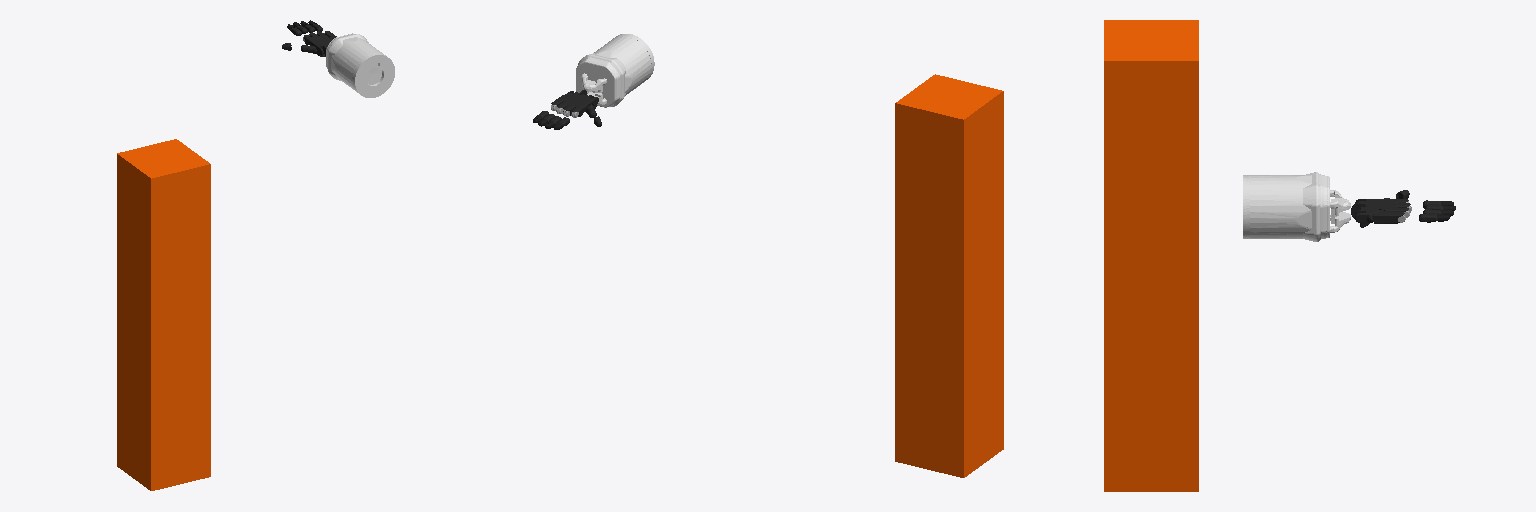
--- Render facts (derived) ---
Views: 3 orthographic renders of the robot side by side, from view 1: azimuth 30°, elevation 25°; view 2: azimuth 150°, elevation 25°; view 3: azimuth 270°, elevation 25°.
Robot: shadow_hand_on_ur5 — 45 links, 44 joints (30 revolute, 14 fixed); root link world; default pose: every joint at zero.
Visible links, largest first — view 1: arm_base, rh_forearm; view 2: arm_base, rh_forearm, rh_palm; view 3: arm_base, rh_forearm, rh_palm.
Link boxes in pixels (left/top/right/bottom): arm_base: left=117, top=139, right=210, bottom=490; rh_forearm: left=326, top=33, right=394, bottom=97; arm_base: left=895, top=74, right=1003, bottom=477; rh_forearm: left=576, top=34, right=654, bottom=107; rh_palm: left=557, top=90, right=598, bottom=116; arm_base: left=1104, top=20, right=1198, bottom=491; rh_forearm: left=1243, top=172, right=1350, bottom=241; rh_palm: left=1351, top=199, right=1410, bottom=227.
Bounding box of the posed robot: 0.9847 × 0.7395 × 1.06 m (x, y, z).
Meshes: 18 distinct files referenced, 17 mesh visuals loaded (8 Collada DAE); not drawn: 13 (reference not matched to a file when rendering).

robot.urdf — shadow_hand_on_ur5:
<?xml version="1.0" ?>
<!-- =================================================================================== -->
<!-- |    This document was autogenerated by xacro from shadow_hand_on_ur5.urdf.xacro  | -->
<!-- |    EDITING THIS FILE BY HAND IS NOT RECOMMENDED                                 | -->
<!-- =================================================================================== -->
<robot name="shadow_hand_on_ur5" xmlns:controller="http://playerstage.sourceforge.net/gazebo/xmlschema/#controller" xmlns:interface="http://playerstage.sourceforge.net/gazebo/xmlschema/#interface" xmlns:sensor="http://playerstage.sourceforge.net/gazebo/xmlschema/#sensor">
  <!-- arm base, orange block/mount for ur5 or ur10 arm -->
  <!-- ################################################################### -->
  <!-- "arm base" : make box to elevate the robot arm -->
  <!-- fix arm base, so that it does not fall -->
  <link name="world"/>
  <joint name="world_to_robot" type="fixed">
    <parent link="world"/>
    <child link="arm_base"/>
    <origin rpy="0 0 0" xyz="0 0 0"/>
  </joint>
  <link name="arm_base">
    <visual>
      <origin rpy="0 0 0" xyz="0 0 0.5"/>
      <geometry>
        <box size="0.2 0.2 1.0"/>
      </geometry>
      <material name="orange">
        <!-- rviz will read this color -->
        <color rgba="1.0 0.4235294117647059 0.0392156862745098 1.0"/>
      </material>
    </visual>
    <collision>
      <origin rpy="0 0 0" xyz="0 0 0.5"/>
      <geometry>
        <box size="0.2 0.2 1.0"/>
      </geometry>
    </collision>
    <inertial>
      <origin rpy="0 0 0" xyz="0 0 0"/>
      <mass value="8.2573504e-01"/>
      <inertia ixx="2.2124416e-03" ixy="-1.2294101e-05" ixz="3.4938785e-05" iyy="2.1193702e-03" iyz="-5.0120904e-06" izz="2.0064271e-03"/>
    </inertial>
  </link>
  <gazebo reference="arm_base">
    <material>Gazebo/Orange</material>
    <!-- gazebo will read this color -->
  </gazebo>
  <!--ur5 without ros control-->
  <!-- ################################################################### -->
  <!-- ur5 arm -->
  <!--
    Base UR robot series xacro macro.

    NOTE: this is NOT a URDF. It cannot directly be loaded by consumers
    expecting a flattened '.urdf' file. See the top-level '.xacro' for that
    (but note: that .xacro must still be processed by the xacro command).

    For use in '.launch' files: use one of the 'load_urX.launch' convenience
    launch files.

    This file models the base kinematic chain of a UR robot, which then gets
    parameterised by various configuration files to convert it into a UR3(e),
    UR5(e), UR10(e) or UR16e.

    NOTE: the default kinematic parameters (ie: link lengths, frame locations,
    offets, etc) do not correspond to any particular robot. They are defaults
    only. There WILL be non-zero offsets between the Forward Kinematics results
    in TF (ie: robot_state_publisher) and the values reported by the Teach
    Pendant.

    For accurate (and robot-specific) transforms, the 'kinematics_parameters_file'
    parameter MUST point to a .yaml file containing the appropriate values for
    the targetted robot.

    If using the UniversalRobots/Universal_Robots_ROS_Driver, follow the steps
    described in the readme of that repository to extract the kinematic
    calibration from the controller and generate the required .yaml file.

    Main author of the migration to yaml configs: Ludovic Delval.

    Contributors to previous versions (in no particular order):

     - Felix Messmer
     - Kelsey Hawkins
     - Wim Meeussen
     - Shaun Edwards
     - Nadia Hammoudeh Garcia
     - Dave Hershberger
     - G. vd. Hoorn
     - Philip Long
     - Dave Coleman
     - Miguel Prada
     - Mathias Luedtke
     - Marcel Schnirring
     - Felix von Drigalski
     - Felix Exner
     - Jimmy Da Silva
     - Ajit Krisshna N L
     - Muhammad Asif Rana
  -->
  <!--
    NOTE: the macro defined in this file is NOT part of the public API of this
          package. Users CANNOT rely on this file being available, or stored in
          this location. Nor can they rely on the existence of the macro.
  -->
  <transmission name="ur5_shoulder_pan_trans">
    <type>transmission_interface/SimpleTransmission</type>
    <joint name="ur5_shoulder_pan_joint">
      <hardwareInterface>hardware_interface/PositionJointInterface</hardwareInterface>
    </joint>
    <actuator name="ur5_shoulder_pan_motor">
      <mechanicalReduction>1</mechanicalReduction>
    </actuator>
  </transmission>
  <transmission name="ur5_shoulder_lift_trans">
    <type>transmission_interface/SimpleTransmission</type>
    <joint name="ur5_shoulder_lift_joint">
      <hardwareInterface>hardware_interface/PositionJointInterface</hardwareInterface>
    </joint>
    <actuator name="ur5_shoulder_lift_motor">
      <mechanicalReduction>1</mechanicalReduction>
    </actuator>
  </transmission>
  <transmission name="ur5_elbow_trans">
    <type>transmission_interface/SimpleTransmission</type>
    <joint name="ur5_elbow_joint">
      <hardwareInterface>hardware_interface/PositionJointInterface</hardwareInterface>
    </joint>
    <actuator name="ur5_elbow_motor">
      <mechanicalReduction>1</mechanicalReduction>
    </actuator>
  </transmission>
  <transmission name="ur5_wrist_1_trans">
    <type>transmission_interface/SimpleTransmission</type>
    <joint name="ur5_wrist_1_joint">
      <hardwareInterface>hardware_interface/PositionJointInterface</hardwareInterface>
    </joint>
    <actuator name="ur5_wrist_1_motor">
      <mechanicalReduction>1</mechanicalReduction>
    </actuator>
  </transmission>
  <transmission name="ur5_wrist_2_trans">
    <type>transmission_interface/SimpleTransmission</type>
    <joint name="ur5_wrist_2_joint">
      <hardwareInterface>hardware_interface/PositionJointInterface</hardwareInterface>
    </joint>
    <actuator name="ur5_wrist_2_motor">
      <mechanicalReduction>1</mechanicalReduction>
    </actuator>
  </transmission>
  <transmission name="ur5_wrist_3_trans">
    <type>transmission_interface/SimpleTransmission</type>
    <joint name="ur5_wrist_3_joint">
      <hardwareInterface>hardware_interface/PositionJointInterface</hardwareInterface>
    </joint>
    <actuator name="ur5_wrist_3_motor">
      <mechanicalReduction>1</mechanicalReduction>
    </actuator>
  </transmission>
  <!-- links: main serial chain -->
  <link name="ur5_base_link">
    <inertial>
      <mass value="0.0"/>
      <origin rpy="0 0 0" xyz="0 0 0"/>
      <inertia ixx="0.0" ixy="0.0" ixz="0.0" iyy="0.0" iyz="0.0" izz="0.0"/>
    </inertial>
  </link>
  <link name="ur5_base_link_inertia">
    <visual>
      <origin rpy="0 0 3.141592653589793" xyz="0 0 0"/>
      <geometry>
        <mesh filename="../meshes/ur5/visual/base.dae"/>
      </geometry>
      <material name="LightGrey">
        <color rgba="0.7 0.7 0.7 1.0"/>
      </material>
    </visual>
    <collision>
      <origin rpy="0 0 3.141592653589793" xyz="0 0 0"/>
      <geometry>
        <mesh filename="../meshes/ur5/collision/base.stl"/>
      </geometry>
    </collision>
    <inertial>
      <mass value="4.0"/>
      <origin rpy="0 0 0" xyz="0 0 0"/>
      <inertia ixx="0.00443333156" ixy="0.0" ixz="0.0" iyy="0.00443333156" iyz="0.0" izz="0.0072"/>
    </inertial>
  </link>
  <link name="ur5_shoulder_link">
    <visual>
      <origin rpy="0 0 3.141592653589793" xyz="0 0 0"/>
      <geometry>
        <mesh filename="../meshes/ur5/visual/shoulder.dae"/>
      </geometry>
      <material name="LightGrey">
        <color rgba="0.7 0.7 0.7 1.0"/>
      </material>
    </visual>
    <collision>
      <origin rpy="0 0 3.141592653589793" xyz="0 0 0"/>
      <geometry>
        <mesh filename="../meshes/ur5/collision/shoulder.stl"/>
      </geometry>
    </collision>
    <inertial>
      <mass value="3.7"/>
      <origin rpy="0 0 0" xyz="0 0 0"/>
      <inertia ixx="0.014972352344389999" ixy="0.0" ixz="0.0" iyy="0.014972352344389999" iyz="0.0" izz="0.01040625"/>
    </inertial>
  </link>
  <link name="ur5_upper_arm_link">
    <visual>
      <origin rpy="1.5707963267948966 0 -1.5707963267948966" xyz="0 0 0.13585"/>
      <geometry>
        <mesh filename="../meshes/ur5/visual/upperarm.dae"/>
      </geometry>
      <material name="LightGrey">
        <color rgba="0.7 0.7 0.7 1.0"/>
      </material>
    </visual>
    <collision>
      <origin rpy="1.5707963267948966 0 -1.5707963267948966" xyz="0 0 0.13585"/>
      <geometry>
        <mesh filename="../meshes/ur5/collision/upperarm.stl"/>
      </geometry>
    </collision>
    <inertial>
      <mass value="8.393"/>
      <origin rpy="0 1.5707963267948966 0" xyz="-0.2125 0.0 0.136"/>
      <inertia ixx="0.1338857818623325" ixy="0.0" ixz="0.0" iyy="0.1338857818623325" iyz="0.0" izz="0.0151074"/>
    </inertial>
  </link>
  <link name="ur5_forearm_link">
    <visual>
      <origin rpy="1.5707963267948966 0 -1.5707963267948966" xyz="0 0 0.0165"/>
      <geometry>
        <mesh filename="../meshes/ur5/visual/forearm.dae"/>
      </geometry>
      <material name="LightGrey">
        <color rgba="0.7 0.7 0.7 1.0"/>
      </material>
    </visual>
    <collision>
      <origin rpy="1.5707963267948966 0 -1.5707963267948966" xyz="0 0 0.0165"/>
      <geometry>
        <mesh filename="../meshes/ur5/collision/forearm.stl"/>
      </geometry>
    </collision>
    <inertial>
      <mass value="2.275"/>
      <origin rpy="0 1.5707963267948966 0" xyz="-0.196125 0.0 0.0165"/>
      <inertia ixx="0.03121679102890359" ixy="0.0" ixz="0.0" iyy="0.03121679102890359" iyz="0.0" izz="0.004095"/>
    </inertial>
  </link>
  <link name="ur5_wrist_1_link">
    <visual>
      <!-- TODO: Move this to a parameter -->
      <origin rpy="1.5707963267948966 0 0" xyz="0 0 -0.093"/>
      <geometry>
        <mesh filename="../meshes/ur5/visual/wrist1.dae"/>
      </geometry>
      <material name="LightGrey">
        <color rgba="0.7 0.7 0.7 1.0"/>
      </material>
    </visual>
    <collision>
      <origin rpy="1.5707963267948966 0 0" xyz="0 0 -0.093"/>
      <geometry>
        <mesh filename="../meshes/ur5/collision/wrist1.stl"/>
      </geometry>
    </collision>
    <inertial>
      <mass value="1.219"/>
      <origin rpy="0 0 0" xyz="0 0 0"/>
      <inertia ixx="0.0020138887777775" ixy="0.0" ixz="0.0" iyy="0.0020138887777775" iyz="0.0" izz="0.0021942"/>
    </inertial>
  </link>
  <link name="ur5_wrist_2_link">
    <visual>
      <origin rpy="0 0 0" xyz="0 0 -0.095"/>
      <geometry>
        <mesh filename="../meshes/ur5/visual/wrist2.dae"/>
      </geometry>
      <material name="LightGrey">
        <color rgba="0.7 0.7 0.7 1.0"/>
      </material>
    </visual>
    <collision>
      <origin rpy="0 0 0" xyz="0 0 -0.095"/>
      <geometry>
        <mesh filename="../meshes/ur5/collision/wrist2.stl"/>
      </geometry>
    </collision>
    <inertial>
      <mass value="1.219"/>
      <origin rpy="0 0 0" xyz="0 0 0"/>
      <inertia ixx="0.0018310388509175" ixy="0.0" ixz="0.0" iyy="0.0018310388509175" iyz="0.0" izz="0.0021942"/>
    </inertial>
  </link>
  <link name="ur5_wrist_3_link">
    <visual>
      <origin rpy="1.5707963267948966 0 0" xyz="0 0 -0.0818"/>
      <geometry>
        <mesh filename="../meshes/ur5/visual/wrist3.dae"/>
      </geometry>
      <material name="LightGrey">
        <color rgba="0.7 0.7 0.7 1.0"/>
      </material>
    </visual>
    <collision>
      <origin rpy="1.5707963267948966 0 0" xyz="0 0 -0.0818"/>
      <geometry>
        <mesh filename="../meshes/ur5/collision/wrist3.stl"/>
      </geometry>
    </collision>
    <inertial>
      <mass value="0.1879"/>
      <origin rpy="0 0 0" xyz="0.0 0.0 -0.01525"/>
      <inertia ixx="8.062472608343e-05" ixy="0.0" ixz="0.0" iyy="8.062472608343e-05" iyz="0.0" izz="0.0001321171875"/>
    </inertial>
  </link>
  <!-- joints: main serial chain -->
  <joint name="ur5_base_link-base_link_inertia" type="fixed">
    <parent link="ur5_base_link"/>
    <child link="ur5_base_link_inertia"/>
    <!-- 'base_link' is REP-103 aligned (so X+ forward), while the internal
           frames of the robot/controller have X+ pointing backwards.
           Use the joint between 'base_link' and 'base_link_inertia' (a dummy
           link/frame) to introduce the necessary rotation over Z (of pi rad).
      -->
    <origin rpy="0 0 3.141592653589793" xyz="0 0 0"/>
  </joint>
  <joint name="ur5_shoulder_pan_joint" type="revolute">
    <parent link="ur5_base_link_inertia"/>
    <child link="ur5_shoulder_link"/>
    <origin rpy="0 0 0" xyz="0 0 0.089159"/>
    <axis xyz="0 0 1"/>
    <limit effort="150.0" lower="-6.283185307179586" upper="6.283185307179586" velocity="3.141592653589793"/>
    <dynamics damping="0" friction="0"/>
  </joint>
  <joint name="ur5_shoulder_lift_joint" type="revolute">
    <parent link="ur5_shoulder_link"/>
    <child link="ur5_upper_arm_link"/>
    <origin rpy="1.570796327 0 0" xyz="0 0 0"/>
    <axis xyz="0 0 1"/>
    <limit effort="150.0" lower="-6.283185307179586" upper="6.283185307179586" velocity="3.141592653589793"/>
    <dynamics damping="0" friction="0"/>
  </joint>
  <joint name="ur5_elbow_joint" type="revolute">
    <parent link="ur5_upper_arm_link"/>
    <child link="ur5_forearm_link"/>
    <origin rpy="0 0 0" xyz="-0.425 0 0"/>
    <axis xyz="0 0 1"/>
    <limit effort="150.0" lower="-3.141592653589793" upper="3.141592653589793" velocity="3.141592653589793"/>
    <dynamics damping="0" friction="0"/>
  </joint>
  <joint name="ur5_wrist_1_joint" type="revolute">
    <parent link="ur5_forearm_link"/>
    <child link="ur5_wrist_1_link"/>
    <origin rpy="0 0 0" xyz="-0.39225 0 0.10915"/>
    <axis xyz="0 0 1"/>
    <limit effort="28.0" lower="-6.283185307179586" upper="6.283185307179586" velocity="3.141592653589793"/>
    <dynamics damping="0" friction="0"/>
  </joint>
  <joint name="ur5_wrist_2_joint" type="revolute">
    <parent link="ur5_wrist_1_link"/>
    <child link="ur5_wrist_2_link"/>
    <origin rpy="1.570796327 0 0" xyz="0 -0.09465 -1.941303950897609e-11"/>
    <axis xyz="0 0 1"/>
    <limit effort="28.0" lower="-6.283185307179586" upper="6.283185307179586" velocity="3.141592653589793"/>
    <dynamics damping="0" friction="0"/>
  </joint>
  <joint name="ur5_wrist_3_joint" type="revolute">
    <parent link="ur5_wrist_2_link"/>
    <child link="ur5_wrist_3_link"/>
    <origin rpy="1.570796326589793 3.141592653589793 3.141592653589793" xyz="0 0.0823 -1.688001216681175e-11"/>
    <axis xyz="0 0 1"/>
    <limit effort="28.0" lower="-6.283185307179586" upper="6.283185307179586" velocity="3.141592653589793"/>
    <dynamics damping="0" friction="0"/>
  </joint>
  <!-- ROS-Industrial 'base' frame: base_link to UR 'Base' Coordinates transform -->
  <link name="ur5_base">
    <inertial>
      <mass value="0.0"/>
      <origin rpy="0 0 0" xyz="0 0 0"/>
      <inertia ixx="0.0" ixy="0.0" ixz="0.0" iyy="0.0" iyz="0.0" izz="0.0"/>
    </inertial>
  </link>
  <joint name="ur5_base_link-base_fixed_joint" type="fixed">
    <!-- Note the rotation over Z of pi radians: as base_link is REP-103
           aligned (ie: has X+ forward, Y+ left and Z+ up), this is needed
           to correctly align 'base' with the 'Base' coordinate system of
           the UR controller.
      -->
    <origin rpy="0 0 3.141592653589793" xyz="0 0 0"/>
    <parent link="ur5_base_link"/>
    <child link="ur5_base"/>
  </joint>
  <!-- ROS-Industrial 'flange' frame: attachment point for EEF models -->
  <link name="ur5_flange">
    <inertial>
      <mass value="0.0"/>
      <origin rpy="0 0 0" xyz="0 0 0"/>
      <inertia ixx="0.0" ixy="0.0" ixz="0.0" iyy="0.0" iyz="0.0" izz="0.0"/>
    </inertial>
  </link>
  <joint name="ur5_wrist_3-flange" type="fixed">
    <parent link="ur5_wrist_3_link"/>
    <child link="ur5_flange"/>
    <origin rpy="0 -1.5707963267948966 -1.5707963267948966" xyz="0 0 0"/>
  </joint>
  <!-- ROS-Industrial 'tool0' frame: all-zeros tool frame -->
  <link name="ur5_tool0">
    <inertial>
      <mass value="0.0"/>
      <origin rpy="0 0 0" xyz="0 0 0"/>
      <inertia ixx="0.0" ixy="0.0" ixz="0.0" iyy="0.0" iyz="0.0" izz="0.0"/>
    </inertial>
  </link>
  <joint name="ur5_flange-tool0" type="fixed">
    <!-- default toolframe: X+ left, Y+ up, Z+ front -->
    <origin rpy="1.5707963267948966 0 1.5707963267948966" xyz="0 0 0"/>
    <parent link="ur5_flange"/>
    <child link="ur5_tool0"/>
  </joint>
  <!-- ################################################################### -->
  <!-- attach "arm" and "arm base" -->
  <joint name="arm_base_to_arm" type="fixed">
    <parent link="arm_base"/>
    <child link="ur5_base_link"/>
    <origin rpy="0 0 0" xyz="0 0 1.0"/>
  </joint>
  <material name="Blue">
    <color rgba="0.0 0.0 0.8 1.0"/>
  </material>
  <material name="Green">
    <color rgba="0.0 0.8 0.0 1.0"/>
  </material>
  <material name="BiotacGreen">
    <color rgba="0.31 0.85 0.42 1.0"/>
  </material>
  <material name="Grey">
    <color rgba="0.2 0.2 0.2 1.0"/>
  </material>
  <material name="LightGrey">
    <color rgba="0.6 0.6 0.6 1.0"/>
  </material>
  <material name="Red">
    <color rgba="0.8 0.0 0.0 1.0"/>
  </material>
  <material name="White">
    <color rgba="1.0 1.0 1.0 1.0"/>
  </material>
  <gazebo>
    <plugin filename="libgazebo_ros_control.so" name="gazebo_ros_control">
      <robotSimType>sr_gazebo_sim/SrGazeboHWSim</robotSimType>
    </plugin>
  </gazebo>
  <link name="rh_forearm">
    <inertial>
      <origin rpy="0 0 0" xyz="0 0 0.09"/>
      <mass value="3.0"/>
      <inertia ixx="0.0138" ixy="0.0" ixz="0.0" iyy="0.0138" iyz="0.0" izz="0.00744"/>
    </inertial>
    <visual>
      <origin rpy="0 0 0" xyz="0 0 0.0"/>
      <geometry name="rh_forearm_visual">
        <mesh filename="../meshes/components/forearm/forearm_E3M5.dae" scale="0.001 0.001 0.001"/>
      </geometry>
      <material name="light_grey">
        <color rgba="0.90000 0.90000 0.90000 1.0"/>
      </material>
    </visual>
    <collision>
      <origin rpy="0 0 0" xyz="0 0 0.0"/>
      <geometry name="rh_forearm_collision">
        <mesh filename="../meshes/components/forearm/forearm_collision_E3M5.dae" scale="0.001 0.001 0.001"/>
      </geometry>
    </collision>
    <!-- wrist mount -->
    <collision>
      <origin rpy="0 0.78 0" xyz="0 -0.01 0.181"/>
      <geometry>
        <box size="0.07 0.07 0.07"/>
      </geometry>
    </collision>
    <!-- TODO: Make a decision on whether to add the connector or not -->
    <!--visual>
        <origin rpy="0 -1.57 -1.57" xyz="0.0 0.067 0.0045"/>
        <geometry name="${prefix}cable_extr_visualisation">
          <mesh filename="../meshes/components/cable_connector/cable_connector_base_${hand_version}.dae" scale="0.001 0.001 0.001" />
        </geometry>
      </visual-->
  </link>
  <gazebo reference="rh_forearm">
    <selfCollide>false</selfCollide>
  </gazebo>
  <link name="rh_wrist">
    <inertial>
      <origin rpy="0 0 0" xyz="0 0 0.029"/>
      <mass value="0.1"/>
      <inertia ixx="0.000035" ixy="0.0" ixz="0.0" iyy="0.000064" iyz="0.0" izz="0.0000438"/>
    </inertial>
    <visual>
      <origin rpy="0 0 0" xyz="0 0 0"/>
      <geometry name="rh_wrist_visual">
        <mesh filename="../meshes/components/wrist/wrist_E3M5.dae" scale="0.001 0.001 0.001"/>
      </geometry>
      <material name="LightGrey"/>
    </visual>
    <collision>
      <origin rpy="1.5708 1.5708 0" xyz="0 0 0"/>
      <geometry name="rh_wrist_collision_geom">
        <cylinder length="0.030" radius="0.0135"/>
      </geometry>
    </collision>
    <collision>
      <origin rpy="0 1.5708 0" xyz="-0.026 0 0.034"/>
      <geometry>
        <cylinder length="0.010" radius="0.011"/>
      </geometry>
    </collision>
    <collision>
      <origin rpy="0 1.5708 0" xyz="0.031 0 0.034"/>
      <geometry>
        <cylinder length="0.010" radius="0.011"/>
      </geometry>
    </collision>
    <collision>
      <origin rpy="0 0.7854 0" xyz="-0.021 0 0.011"/>
      <geometry>
        <box size="0.027 0.018 0.010"/>
      </geometry>
    </collision>
    <collision>
      <origin rpy="0 -0.7854 0" xyz="0.026 0 0.010"/>
      <geometry>
        <box size="0.027 0.018 0.010"/>
      </geometry>
    </collision>
  </link>
  <gazebo reference="rh_wrist">
    <material>Gazebo/White</material>
    <selfCollide>false</selfCollide>
  </gazebo>
  <joint name="rh_WRJ2" type="revolute">
    <parent link="rh_forearm"/>
    <child link="rh_wrist"/>
    <origin rpy="0 0 0" xyz="0 -0.010 0.21301"/>
    <axis xyz="0 1 0"/>
    <limit effort="10" lower="-0.5235987755982988" upper="0.17453292519943295" velocity="2.0"/>
    <dynamics damping="0.1"/>
  </joint>
  <gazebo reference="rh_WRJ2">
    <provideFeedback>1</provideFeedback>
    <implicitSpringDamper>1</implicitSpringDamper>
  </gazebo>
  <transmission name="rh_wrist_transmission">
    <type>sr_mechanism_model/SimpleTransmission</type>
    <actuator name="rh_WRJ2">
      <mechanicalReduction>1</mechanicalReduction>
    </actuator>
    <joint name="rh_WRJ2">
      <hardwareInterface>EffortJointInterface</hardwareInterface>
      <hardwareInterface>PositionJointInterface</hardwareInterface>
    </joint>
  </transmission>
  <link name="rh_palm">
    <inertial>
      <origin rpy="0 0 0" xyz="0 0 0.035"/>
      <mass value="0.3"/>
      <inertia ixx="0.0003581" ixy="0.0" ixz="0.0" iyy="0.0005287" iyz="0.0" izz="0.000191"/>
    </inertial>
    <visual>
      <origin rpy="0 0 0" xyz="0 0 0"/>
      <geometry name="rh_palm_visual">
        <mesh filename="../meshes/components/palm/palm_E3M5.dae" scale="0.001 0.001 0.001"/>
      </geometry>
      <material name="Grey"/>
    </visual>
    <collision>
      <origin rpy="0 0 0" xyz="0.011 0.0085 0.038"/>
      <geometry name="rh_palm_collision_geom">
        <box size="0.062 0.007 0.098"/>
      </geometry>
    </collision>
    <collision>
      <origin rpy="0 0 0" xyz="-0.002 -0.0035 0.038"/>
      <geometry>
        <box size="0.036 0.017 0.098"/>
      </geometry>
    </collision>
    <!-- palm complement below first finger -->
    <collision>
      <origin rpy="0 0 0" xyz="0.029 -0.0035 0.082"/>
      <geometry>
        <box size="0.026 0.017 0.010"/>
      </geometry>
    </collision>
    <collision>
      <origin rpy="0.2 0 0.25" xyz="0.0265 -0.001 0.070"/>
      <geometry>
        <box size="0.026 0.014 0.018"/>
      </geometry>
    </collision>
    <!-- thumb pulp side -->
    <collision>
      <origin rpy="0 0 0" xyz="0.0315 -0.0085 0.001"/>
      <geometry>
        <box size="0.021 0.027 0.024"/>
      </geometry>
    </collision>
    <!-- thumb pulp central -->
    <collision>
      <origin rpy="0 0 -0.48" xyz="0.0125 -0.015 0.009"/>
      <geometry>
        <box size="0.022 0.005 0.040"/>
      </geometry>
    </collision>
    <!-- above middle finger-->
    <collision>
      <origin rpy="0 0 0" xyz="0.011 0 0.089"/>
      <geometry>
        <box size="0.018 0.024 0.004"/>
      </geometry>
    </collision>
    <!-- metacarpal side-->
    <collision>
      <origin rpy="0 0 0" xyz="-0.03 0 0.009"/>
      <geometry>
        <box size="0.020 0.024 0.040"/>
      </geometry>
    </collision>
  </link>
  <joint name="rh_ee_fixed_joint" type="fixed">
    <parent link="rh_palm"/>
    <child link="rh_manipulator"/>
    <origin rpy="0.0 0.0 0.0" xyz="0.0 0.0 0.05"/>
  </joint>
  <link name="rh_manipulator">
    <inertial>
      <mass value="0.0"/>
      <origin rpy="0 0 0" xyz="0 0 0"/>
      <inertia ixx="0.0" ixy="0.0" ixz="0.0" iyy="0.0" iyz="0.0" izz="0.0"/>
    </inertial>
  </link>
  <joint name="rh_WRJ1" type="revolute">
    <parent link="rh_wrist"/>
    <child link="rh_palm"/>
    <origin rpy="0 0 0" xyz="0 0 0.034"/>
    <axis xyz="1 0 0"/>
    <limit effort="30" lower="-0.6981317007977318" upper="0.4886921905584123" velocity="2.0"/>
    <dynamics damping="0.1"/>
  </joint>
  <gazebo reference="rh_WRJ1">
    <provideFeedback>1</provideFeedback>
    <implicitSpringDamper>1</implicitSpringDamper>
  </gazebo>
  <link name="rh_imu">
    <inertial>
      <mass value="0.0"/>
      <origin rpy="0 0 0" xyz="0 0 0"/>
      <inertia ixx="0.0" ixy="0.0" ixz="0.0" iyy="0.0" iyz="0.0" izz="0.0"/>
    </inertial>
  </link>
  <joint name="rh_palm_to_imu" type="fixed">
    <parent link="rh_palm"/>
    <child link="rh_imu"/>
    <origin rpy="-1.5707963 3.141592 0.0" xyz="0.01785 0.00765 0.049125"/>
  </joint>
  <transmission name="rh_palm_transmission">
    <type>sr_mechanism_model/SimpleTransmission</type>
    <actuator name="rh_WRJ1">
      <mechanicalReduction>1</mechanicalReduction>
    </actuator>
    <joint name="rh_WRJ1">
      <hardwareInterface>EffortJointInterface</hardwareInterface>
      <hardwareInterface>PositionJointInterface</hardwareInterface>
    </joint>
  </transmission>
  <gazebo reference="rh_palm">
  </gazebo>
  <link name="rh_ffknuckle">
    <inertial>
      <origin rpy="0 0 0" xyz="0 0 0"/>
      <mass value="0.008"/>
      <inertia ixx="0.00000026" ixy="0.0" ixz="0.0" iyy="0.00000026" iyz="0.0" izz="0.00000032"/>
    </inertial>
    <visual>
      <origin rpy="0 0 0" xyz="0 0 0.0005"/>
      <geometry name="rh_ffknuckle_visual">
        <mesh filename="../meshes/components/f_knuckle/f_knuckle_E3M5.dae" scale="0.001 0.001 0.001"/>
      </geometry>
      <material name="LightGrey"/>
    </visual>
    <collision>
      <origin rpy="0 1.5708 0" xyz="0 0 0"/>
      <geometry name="rh_ffknuckle_collision_geom">
        <cylinder length="0.014" radius="0.007"/>
      </geometry>
    </collision>
  </link>
  <joint name="rh_FFJ4" type="revolute">
    <parent link="rh_palm"/>
    <child link="rh_ffknuckle"/>
    <!--<origin xyz="0.033 0 0.095" rpy="0 0 0" />-->
    <origin rpy="0 0 0" xyz="0.033 0 0.095"/>
    <axis xyz="0 -1 0"/>
    <limit effort="2" lower="-0.3490658503988659" upper="0.3490658503988659" velocity="2.0"/>
    <dynamics damping="0.1"/>
  </joint>
  <gazebo reference="rh_FFJ4">
    <provideFeedback>1</provideFeedback>
    <implicitSpringDamper>1</implicitSpringDamper>
  </gazebo>
  <transmission name="rh_ffknuckle_transmission">
    <type>sr_mechanism_model/SimpleTransmission</type>
    <actuator name="rh_FFJ4">
      <mechanicalReduction>1</mechanicalReduction>
    </actuator>
    <joint name="rh_FFJ4">
      <hardwareInterface>EffortJointInterface</hardwareInterface>
      <hardwareInterface>PositionJointInterface</hardwareInterface>
    </joint>
  </transmission>
  <gazebo reference="rh_ffknuckle">
    <!-- knuckle is not highly exposed, so bumper is not useful -->
    <material>Gazebo/Grey</material>
  </gazebo>
  <link name="rh_ffproximal">
    <inertial>
      <mass value="0.030"/>
      <origin xyz="0 0 0.0225"/>
      <inertia ixx="0.0000098" ixy="0.0" ixz="0.0" iyy="0.00001" iyz="0.0" izz="0.0000018"/>
    </inertial>
    <visual>
      <origin rpy="0 0 0" xyz="0 0 0"/>
      <geometry name="rh_ffproximal_visual">
        <mesh filename="../meshes/components/f_proximal/f_proximal_E3M5.dae" scale="0.001 0.001 0.001"/>
      </geometry>
      <material name="Grey"/>
    </visual>
    <collision>
      <origin rpy="0 0 0" xyz="0 0 0.025"/>
      <geometry name="rh_ffproximal_collision_geom">
        <cylinder length="0.040" radius="0.007"/>
      </geometry>
    </collision>
  </link>
  <joint name="rh_FFJ3" type="revolute">
    <parent link="rh_ffknuckle"/>
    <child link="rh_ffproximal"/>
    <origin rpy="0 0 0" xyz="0 0 0"/>
    <axis xyz="1 0 0"/>
    <limit effort="2" lower="-0.2617993877991494" upper="1.5707963267948966" velocity="2.0"/>
    <dynamics damping="0.1"/>
  </joint>
  <gazebo reference="rh_FFJ3">
    <provideFeedback>1</provideFeedback>
    <implicitSpringDamper>1</implicitSpringDamper>
  </gazebo>
  <transmission name="rh_ffproximal_transmission">
    <type>sr_mechanism_model/SimpleTransmission</type>
    <actuator name="rh_FFJ3">
      <mechanicalReduction>1</mechanicalReduction>
    </actuator>
    <joint name="rh_FFJ3">
      <hardwareInterface>EffortJointInterface</hardwareInterface>
      <hardwareInterface>PositionJointInterface</hardwareInterface>
    </joint>
  </transmission>
  <gazebo reference="rh_ffproximal">
    <selfCollide>true</selfCollide>
  </gazebo>
  <link name="rh_ffmiddle">
    <inertial>
      <origin rpy="0 0 0" xyz="0 0 0.0125"/>
      <mass value="0.017"/>
      <inertia ixx="0.0000026" ixy="0.0" ixz="0.0" iyy="0.0000027" iyz="0.0" izz="0.00000087"/>
    </inertial>
    <visual>
      <origin rpy="0 0 0" xyz="0 0 0"/>
      <geometry name="rh_ffmiddle_visual">
        <mesh filename="../meshes/components/f_middle/f_middle_E3M5.dae" scale="0.001 0.001 0.001"/>
      </geometry>
      <material name="Grey"/>
    </visual>
    <collision>
      <origin rpy="0 0 0" xyz="0 0 0.0125"/>
      <geometry name="rh_ffmiddle_collision_geom">
        <cylinder length="0.025" radius="0.007"/>
      </geometry>
    </collision>
    <collision>
      <origin rpy="0 0 0" xyz="0 0 0.0"/>
      <geometry>
        <sphere radius="0.007"/>
      </geometry>
    </collision>
    <collision>
      <origin rpy="0 0 0" xyz="0 0 0.025"/>
      <geometry>
        <sphere radius="0.007"/>
      </geometry>
    </collision>
  </link>
  <joint name="rh_FFJ2" type="revolute">
    <parent link="rh_ffproximal"/>
    <child link="rh_ffmiddle"/>
    <origin rpy="0 0 0" xyz="0 0 0.045"/>
    <axis xyz="1 0 0"/>
    <limit effort="2" lower="0" upper="1.5707963267948966" velocity="2.0"/>
    <dynamics damping="0.1"/>
  </joint>
  <gazebo reference="rh_FFJ2">
    <provideFeedback>1</provideFeedback>
    <implicitSpringDamper>1</implicitSpringDamper>
  </gazebo>
  <transmission name="rh_ffmiddle_transmission">
    <type>sr_mechanism_model/J0Transmission</type>
    <actuator name="rh_FFJ0">
      <mechanicalReduction>1</mechanicalReduction>
    </actuator>
    <joint name="rh_FFJ1">
      <hardwareInterface>EffortJointInterface</hardwareInterface>
      <hardwareInterface>PositionJointInterface</hardwareInterface>
    </joint>
  </transmission>
  <gazebo reference="rh_ffmiddle">
    <selfCollide>true</selfCollide>
  </gazebo>
  <link name="rh_ffdistal">
    <inertial>
      <mass value="0.012"/>
      <origin xyz="0 0 0.012"/>
      <inertia ixx="0.00000094" ixy="0.0" ixz="0.0" iyy="0.0000011" iyz="0.0" izz="0.00000053"/>
    </inertial>
    <visual>
      <origin rpy="0 0 0" xyz="0 0 0"/>
      <geometry name="rh_ffdistal_visual">
        <mesh filename="../meshes/components/f_distal/pst/f_distal_pst.dae" scale="0.001 0.001 0.001"/>
      </geometry>
    </visual>
    <collision>
      <origin rpy="0 0 0" xyz="0 0 0"/>
      <geometry name="rh_ffdistal_collision_geom">
        <mesh filename="../meshes/components/f_distal/pst/f_distal_pst.dae" scale="0.001 0.001 0.001"/>
      </geometry>
    </collision>
  </link>
  <joint name="rh_FFJ1" type="revolute">
    <parent link="rh_ffmiddle"/>
    <child link="rh_ffdistal"/>
    <origin rpy="0 0 0" xyz="0 0 0.025"/>
    <axis xyz="1 0 0"/>
    <!-- standard distal joint -->
    <limit effort="2" lower="0" upper="1.5707963267948966" velocity="2.0"/>
    <dynamics damping="0.1"/>
  </joint>
  <gazebo reference="rh_FFJ1">
    <provideFeedback>1</provideFeedback>
    <implicitSpringDamper>1</implicitSpringDamper>
  </gazebo>
  <link name="rh_fftip">
    <inertial>
      <mass value="0.001"/>
      <inertia ixx="0.0" ixy="0.0" ixz="0.0" iyy="0.0" iyz="0.0" izz="0.0"/>
    </inertial>
  </link>
  <joint name="rh_FFtip" type="fixed">
    <parent link="rh_ffdistal"/>
    <child link="rh_fftip"/>
    <origin rpy="0 0 0" xyz="0 0 0.026"/>
  </joint>
  <gazebo reference="rh_ffdistal">
    <sensor name="rh_ffdistal_contact" type="contact">
      <always_on>1</always_on>
      <update_rate>1000.0</update_rate>
      <contact>
        <collision>rh_ffdistal_collision</collision>
        <topic>rh_ffdistal_collision</topic>
      </contact>
      <plugin filename="libgazebo_ros_bumper.so" name="rh_ffdistal_gazebo_ros_bumper_controller">
        <alwaysOn>true</alwaysOn>
        <frameName>rh_ffdistal</frameName>
        <updateRate>100.0</updateRate>
        <bumperTopicName>contacts/rh_ff/distal</bumperTopicName>
      </plugin>
    </sensor>
    <mu1 value="500.0"/>
    <mu2 value="500.0"/>
    <kp value="10000000.0"/>
    <kd value="1.0"/>
    <selfCollide>true</selfCollide>
  </gazebo>
  <link name="rh_mfknuckle">
    <inertial>
      <origin rpy="0 0 0" xyz="0 0 0"/>
      <mass value="0.008"/>
      <inertia ixx="0.00000026" ixy="0.0" ixz="0.0" iyy="0.00000026" iyz="0.0" izz="0.00000032"/>
    </inertial>
    <visual>
      <origin rpy="0 0 0" xyz="0 0 0.0005"/>
      <geometry name="rh_mfknuckle_visual">
        <mesh filename="../meshes/components/f_knuckle/f_knuckle_E3M5.dae" scale="0.001 0.001 0.001"/>
      </geometry>
      <material name="LightGrey"/>
    </visual>
    <collision>
      <origin rpy="0 1.5708 0" xyz="0 0 0"/>
      <geometry name="rh_mfknuckle_collision_geom">
        <cylinder length="0.014" radius="0.007"/>
      </geometry>
    </collision>
  </link>
  <joint name="rh_MFJ4" type="revolute">
    <parent link="rh_palm"/>
    <child link="rh_mfknuckle"/>
    <!--<origin xyz="0.033 0 0.095" rpy="0 0 0" />-->
    <origin rpy="0 0 0" xyz="0.011 0 0.099"/>
    <axis xyz="0 -1 0"/>
    <limit effort="2" lower="-0.3490658503988659" upper="0.3490658503988659" velocity="2.0"/>
    <dynamics damping="0.1"/>
  </joint>
  <gazebo reference="rh_MFJ4">
    <provideFeedback>1</provideFeedback>
    <implicitSpringDamper>1</implicitSpringDamper>
  </gazebo>
  <transmission name="rh_mfknuckle_transmission">
    <type>sr_mechanism_model/SimpleTransmission</type>
    <actuator name="rh_MFJ4">
      <mechanicalReduction>1</mechanicalReduction>
    </actuator>
    <joint name="rh_MFJ4">
      <hardwareInterface>EffortJointInterface</hardwareInterface>
      <hardwareInterface>PositionJointInterface</hardwareInterface>
    </joint>
  </transmission>
  <gazebo reference="rh_mfknuckle">
    <!-- knuckle is not highly exposed, so bumper is not useful -->
    <material>Gazebo/Grey</material>
  </gazebo>
  <link name="rh_mfproximal">
    <inertial>
      <mass value="0.030"/>
      <origin xyz="0 0 0.0225"/>
      <inertia ixx="0.0000098" ixy="0.0" ixz="0.0" iyy="0.00001" iyz="0.0" izz="0.0000018"/>
    </inertial>
    <visual>
      <origin rpy="0 0 0" xyz="0 0 0"/>
      <geometry name="rh_mfproximal_visual">
        <mesh filename="../meshes/components/f_proximal/f_proximal_E3M5.dae" scale="0.001 0.001 0.001"/>
      </geometry>
      <material name="Grey"/>
    </visual>
    <collision>
      <origin rpy="0 0 0" xyz="0 0 0.025"/>
      <geometry name="rh_mfproximal_collision_geom">
        <cylinder length="0.040" radius="0.007"/>
      </geometry>
    </collision>
  </link>
  <joint name="rh_MFJ3" type="revolute">
    <parent link="rh_mfknuckle"/>
    <child link="rh_mfproximal"/>
    <origin rpy="0 0 0" xyz="0 0 0"/>
    <axis xyz="1 0 0"/>
    <limit effort="2" lower="-0.2617993877991494" upper="1.5707963267948966" velocity="2.0"/>
    <dynamics damping="0.1"/>
  </joint>
  <gazebo reference="rh_MFJ3">
    <provideFeedback>1</provideFeedback>
    <implicitSpringDamper>1</implicitSpringDamper>
  </gazebo>
  <transmission name="rh_mfproximal_transmission">
    <type>sr_mechanism_model/SimpleTransmission</type>
    <actuator name="rh_MFJ3">
      <mechanicalReduction>1</mechanicalReduction>
    </actuator>
    <joint name="rh_MFJ3">
      <hardwareInterface>EffortJointInterface</hardwareInterface>
      <hardwareInterface>PositionJointInterface</hardwareInterface>
    </joint>
  </transmission>
  <gazebo reference="rh_mfproximal">
    <selfCollide>true</selfCollide>
  </gazebo>
  <link name="rh_mfmiddle">
    <inertial>
      <origin rpy="0 0 0" xyz="0 0 0.0125"/>
      <mass value="0.017"/>
      <inertia ixx="0.0000026" ixy="0.0" ixz="0.0" iyy="0.0000027" iyz="0.0" izz="0.00000087"/>
    </inertial>
    <visual>
      <origin rpy="0 0 0" xyz="0 0 0"/>
      <geometry name="rh_mfmiddle_visual">
        <mesh filename="../meshes/components/f_middle/f_middle_E3M5.dae" scale="0.001 0.001 0.001"/>
      </geometry>
      <material name="Grey"/>
    </visual>
    <collision>
      <origin rpy="0 0 0" xyz="0 0 0.0125"/>
      <geometry name="rh_mfmiddle_collision_geom">
        <cylinder length="0.025" radius="0.007"/>
      </geometry>
    </collision>
    <collision>
      <origin rpy="0 0 0" xyz="0 0 0.0"/>
      <geometry>
        <sphere radius="0.007"/>
      </geometry>
    </collision>
    <collision>
      <origin rpy="0 0 0" xyz="0 0 0.025"/>
      <geometry>
        <sphere radius="0.007"/>
      </geometry>
    </collision>
  </link>
  <joint name="rh_MFJ2" type="revolute">
    <parent link="rh_mfproximal"/>
    <child link="rh_mfmiddle"/>
    <origin rpy="0 0 0" xyz="0 0 0.045"/>
    <axis xyz="1 0 0"/>
    <limit effort="2" lower="0" upper="1.5707963267948966" velocity="2.0"/>
    <dynamics damping="0.1"/>
  </joint>
  <gazebo reference="rh_MFJ2">
    <provideFeedback>1</provideFeedback>
    <implicitSpringDamper>1</implicitSpringDamper>
  </gazebo>
  <transmission name="rh_mfmiddle_transmission">
    <type>sr_mechanism_model/J0Transmission</type>
    <actuator name="rh_MFJ0">
      <mechanicalReduction>1</mechanicalReduction>
    </actuator>
    <joint name="rh_MFJ1">
      <hardwareInterface>EffortJointInterface</hardwareInterface>
      <hardwareInterface>PositionJointInterface</hardwareInterface>
    </joint>
  </transmission>
  <gazebo reference="rh_mfmiddle">
    <selfCollide>true</selfCollide>
  </gazebo>
  <link name="rh_mfdistal">
    <inertial>
      <mass value="0.012"/>
      <origin xyz="0 0 0.012"/>
      <inertia ixx="0.00000094" ixy="0.0" ixz="0.0" iyy="0.0000011" iyz="0.0" izz="0.00000053"/>
    </inertial>
    <visual>
      <origin rpy="0 0 0" xyz="0 0 0"/>
      <geometry name="rh_mfdistal_visual">
        <mesh filename="../meshes/components/f_distal/pst/f_distal_pst.dae" scale="0.001 0.001 0.001"/>
      </geometry>
    </visual>
    <collision>
      <origin rpy="0 0 0" xyz="0 0 0"/>
      <geometry name="rh_mfdistal_collision_geom">
        <mesh filename="../meshes/components/f_distal/pst/f_distal_pst.dae" scale="0.001 0.001 0.001"/>
      </geometry>
    </collision>
  </link>
  <joint name="rh_MFJ1" type="revolute">
    <parent link="rh_mfmiddle"/>
    <child link="rh_mfdistal"/>
    <origin rpy="0 0 0" xyz="0 0 0.025"/>
    <axis xyz="1 0 0"/>
    <!-- standard distal joint -->
    <limit effort="2" lower="0" upper="1.5707963267948966" velocity="2.0"/>
    <dynamics damping="0.1"/>
  </joint>
  <gazebo reference="rh_MFJ1">
    <provideFeedback>1</provideFeedback>
    <implicitSpringDamper>1</implicitSpringDamper>
  </gazebo>
  <link name="rh_mftip">
    <inertial>
      <mass value="0.001"/>
      <inertia ixx="0.0" ixy="0.0" ixz="0.0" iyy="0.0" iyz="0.0" izz="0.0"/>
    </inertial>
  </link>
  <joint name="rh_MFtip" type="fixed">
    <parent link="rh_mfdistal"/>
    <child link="rh_mftip"/>
    <origin rpy="0 0 0" xyz="0 0 0.026"/>
  </joint>
  <gazebo reference="rh_mfdistal">
    <sensor name="rh_mfdistal_contact" type="contact">
      <always_on>1</always_on>
      <update_rate>1000.0</update_rate>
      <contact>
        <collision>rh_mfdistal_collision</collision>
        <topic>rh_mfdistal_collision</topic>
      </contact>
      <plugin filename="libgazebo_ros_bumper.so" name="rh_mfdistal_gazebo_ros_bumper_controller">
        <alwaysOn>true</alwaysOn>
        <frameName>rh_mfdistal</frameName>
        <updateRate>100.0</updateRate>
        <bumperTopicName>contacts/rh_mf/distal</bumperTopicName>
      </plugin>
    </sensor>
    <mu1 value="500.0"/>
    <mu2 value="500.0"/>
    <kp value="10000000.0"/>
    <kd value="1.0"/>
    <selfCollide>true</selfCollide>
  </gazebo>
  <link name="rh_rfknuckle">
    <inertial>
      <origin rpy="0 0 0" xyz="0 0 0"/>
      <mass value="0.008"/>
      <inertia ixx="0.00000026" ixy="0.0" ixz="0.0" iyy="0.00000026" iyz="0.0" izz="0.00000032"/>
    </inertial>
    <visual>
      <origin rpy="0 0 0" xyz="0 0 0.0005"/>
      <geometry name="rh_rfknuckle_visual">
        <mesh filename="../meshes/components/f_knuckle/f_knuckle_E3M5.dae" scale="0.001 0.001 0.001"/>
      </geometry>
      <material name="LightGrey"/>
    </visual>
    <collision>
      <origin rpy="0 1.5708 0" xyz="0 0 0"/>
      <geometry name="rh_rfknuckle_collision_geom">
        <cylinder length="0.014" radius="0.007"/>
      </geometry>
    </collision>
  </link>
  <joint name="rh_RFJ4" type="revolute">
    <parent link="rh_palm"/>
    <child link="rh_rfknuckle"/>
    <!--<origin xyz="0.033 0 0.095" rpy="0 0 0" />-->
    <origin rpy="0 0 0" xyz="-0.011 0 0.095"/>
    <axis xyz="0 1 0"/>
    <limit effort="2" lower="-0.3490658503988659" upper="0.3490658503988659" velocity="2.0"/>
    <dynamics damping="0.1"/>
  </joint>
  <gazebo reference="rh_RFJ4">
    <provideFeedback>1</provideFeedback>
    <implicitSpringDamper>1</implicitSpringDamper>
  </gazebo>
  <transmission name="rh_rfknuckle_transmission">
    <type>sr_mechanism_model/SimpleTransmission</type>
    <actuator name="rh_RFJ4">
      <mechanicalReduction>1</mechanicalReduction>
    </actuator>
    <joint name="rh_RFJ4">
      <hardwareInterface>EffortJointInterface</hardwareInterface>
      <hardwareInterface>PositionJointInterface</hardwareInterface>
    </joint>
  </transmission>
  <gazebo reference="rh_rfknuckle">
    <!-- knuckle is not highly exposed, so bumper is not useful -->
    <material>Gazebo/Grey</material>
  </gazebo>
  <link name="rh_rfproximal">
    <inertial>
      <mass value="0.030"/>
      <origin xyz="0 0 0.0225"/>
      <inertia ixx="0.0000098" ixy="0.0" ixz="0.0" iyy="0.00001" iyz="0.0" izz="0.0000018"/>
    </inertial>
    <visual>
      <origin rpy="0 0 0" xyz="0 0 0"/>
      <geometry name="rh_rfproximal_visual">
        <mesh filename="../meshes/components/f_proximal/f_proximal_E3M5.dae" scale="0.001 0.001 0.001"/>
      </geometry>
      <material name="Grey"/>
    </visual>
    <collision>
      <origin rpy="0 0 0" xyz="0 0 0.025"/>
      <geometry name="rh_rfproximal_collision_geom">
        <cylinder length="0.040" radius="0.007"/>
      </geometry>
    </collision>
  </link>
  <joint name="rh_RFJ3" type="revolute">
    <parent link="rh_rfknuckle"/>
    <child link="rh_rfproximal"/>
    <origin rpy="0 0 0" xyz="0 0 0"/>
    <axis xyz="1 0 0"/>
    <limit effort="2" lower="-0.2617993877991494" upper="1.5707963267948966" velocity="2.0"/>
    <dynamics damping="0.1"/>
  </joint>
  <gazebo reference="rh_RFJ3">
    <provideFeedback>1</provideFeedback>
    <implicitSpringDamper>1</implicitSpringDamper>
  </gazebo>
  <transmission name="rh_rfproximal_transmission">
    <type>sr_mechanism_model/SimpleTransmission</type>
    <actuator name="rh_RFJ3">
      <mechanicalReduction>1</mechanicalReduction>
    </actuator>
    <joint name="rh_RFJ3">
      <hardwareInterface>EffortJointInterface</hardwareInterface>
      <hardwareInterface>PositionJointInterface</hardwareInterface>
    </joint>
  </transmission>
  <gazebo reference="rh_rfproximal">
    <selfCollide>true</selfCollide>
  </gazebo>
  <link name="rh_rfmiddle">
    <inertial>
      <origin rpy="0 0 0" xyz="0 0 0.0125"/>
      <mass value="0.017"/>
      <inertia ixx="0.0000026" ixy="0.0" ixz="0.0" iyy="0.0000027" iyz="0.0" izz="0.00000087"/>
    </inertial>
    <visual>
      <origin rpy="0 0 0" xyz="0 0 0"/>
      <geometry name="rh_rfmiddle_visual">
        <mesh filename="../meshes/components/f_middle/f_middle_E3M5.dae" scale="0.001 0.001 0.001"/>
      </geometry>
      <material name="Grey"/>
    </visual>
    <collision>
      <origin rpy="0 0 0" xyz="0 0 0.0125"/>
      <geometry name="rh_rfmiddle_collision_geom">
        <cylinder length="0.025" radius="0.007"/>
      </geometry>
    </collision>
    <collision>
      <origin rpy="0 0 0" xyz="0 0 0.0"/>
      <geometry>
        <sphere radius="0.007"/>
      </geometry>
    </collision>
    <collision>
      <origin rpy="0 0 0" xyz="0 0 0.025"/>
      <geometry>
        <sphere radius="0.007"/>
      </geometry>
    </collision>
  </link>
  <joint name="rh_RFJ2" type="revolute">
    <parent link="rh_rfproximal"/>
    <child link="rh_rfmiddle"/>
    <origin rpy="0 0 0" xyz="0 0 0.045"/>
    <axis xyz="1 0 0"/>
    <limit effort="2" lower="0" upper="1.5707963267948966" velocity="2.0"/>
    <dynamics damping="0.1"/>
  </joint>
  <gazebo reference="rh_RFJ2">
    <provideFeedback>1</provideFeedback>
    <implicitSpringDamper>1</implicitSpringDamper>
  </gazebo>
  <transmission name="rh_rfmiddle_transmission">
    <type>sr_mechanism_model/J0Transmission</type>
    <actuator name="rh_RFJ0">
      <mechanicalReduction>1</mechanicalReduction>
    </actuator>
    <joint name="rh_RFJ1">
      <hardwareInterface>EffortJointInterface</hardwareInterface>
      <hardwareInterface>PositionJointInterface</hardwareInterface>
    </joint>
  </transmission>
  <gazebo reference="rh_rfmiddle">
    <selfCollide>true</selfCollide>
  </gazebo>
  <link name="rh_rfdistal">
    <inertial>
      <mass value="0.012"/>
      <origin xyz="0 0 0.012"/>
      <inertia ixx="0.00000094" ixy="0.0" ixz="0.0" iyy="0.0000011" iyz="0.0" izz="0.00000053"/>
    </inertial>
    <visual>
      <origin rpy="0 0 0" xyz="0 0 0"/>
      <geometry name="rh_rfdistal_visual">
        <mesh filename="../meshes/components/f_distal/pst/f_distal_pst.dae" scale="0.001 0.001 0.001"/>
      </geometry>
    </visual>
    <collision>
      <origin rpy="0 0 0" xyz="0 0 0"/>
      <geometry name="rh_rfdistal_collision_geom">
        <mesh filename="../meshes/components/f_distal/pst/f_distal_pst.dae" scale="0.001 0.001 0.001"/>
      </geometry>
    </collision>
  </link>
  <joint name="rh_RFJ1" type="revolute">
    <parent link="rh_rfmiddle"/>
    <child link="rh_rfdistal"/>
    <origin rpy="0 0 0" xyz="0 0 0.025"/>
    <axis xyz="1 0 0"/>
    <!-- standard distal joint -->
    <limit effort="2" lower="0" upper="1.5707963267948966" velocity="2.0"/>
    <dynamics damping="0.1"/>
  </joint>
  <gazebo reference="rh_RFJ1">
    <provideFeedback>1</provideFeedback>
    <implicitSpringDamper>1</implicitSpringDamper>
  </gazebo>
  <link name="rh_rftip">
    <inertial>
      <mass value="0.001"/>
      <inertia ixx="0.0" ixy="0.0" ixz="0.0" iyy="0.0" iyz="0.0" izz="0.0"/>
    </inertial>
  </link>
  <joint name="rh_RFtip" type="fixed">
    <parent link="rh_rfdistal"/>
    <child link="rh_rftip"/>
    <origin rpy="0 0 0" xyz="0 0 0.026"/>
  </joint>
  <gazebo reference="rh_rfdistal">
    <sensor name="rh_rfdistal_contact" type="contact">
      <always_on>1</always_on>
      <update_rate>1000.0</update_rate>
      <contact>
        <collision>rh_rfdistal_collision</collision>
        <topic>rh_rfdistal_collision</topic>
      </contact>
      <plugin filename="libgazebo_ros_bumper.so" name="rh_rfdistal_gazebo_ros_bumper_controller">
        <alwaysOn>true</alwaysOn>
        <frameName>rh_rfdistal</frameName>
        <updateRate>100.0</updateRate>
        <bumperTopicName>contacts/rh_rf/distal</bumperTopicName>
      </plugin>
    </sensor>
    <mu1 value="500.0"/>
    <mu2 value="500.0"/>
    <kp value="10000000.0"/>
    <kd value="1.0"/>
    <selfCollide>true</selfCollide>
  </gazebo>
  <link name="rh_lfmetacarpal">
    <inertial>
      <origin rpy="0 0 0" xyz="0 0 0.04"/>
      <mass value="0.030"/>
      <inertia ixx="0.0000145" ixy="0.0" ixz="0.0" iyy="0.00001638" iyz="0.0" izz="0.000004272"/>
    </inertial>
    <visual>
      <origin rpy="0 0.9599 0" xyz="0 0 0"/>
      <axis xyz="0.573576436 0 0.819152044"/>
      <geometry name="rh_lfmetacarpal_visual">
        <mesh filename="../meshes/components/lf_metacarpal/lf_metacarpal_E3M5.dae" scale="0.001 0.001 0.001"/>
      </geometry>
      <material name="Grey"/>
    </visual>
    <collision>
      <origin rpy="0 0 0" xyz="0 0 0.038"/>
      <geometry name="rh_lfmetacarpal_collision_geom">
        <box size="0.018 0.024 0.040"/>
      </geometry>
    </collision>
  </link>
  <joint name="rh_LFJ5" type="revolute">
    <parent link="rh_palm"/>
    <child link="rh_lfmetacarpal"/>
    <origin rpy="0 -0.9599 0" xyz="-0.033 0 0.02071"/>
    <axis xyz="1 0 0"/>
    <limit effort="2" lower="0" upper="0.7853981633974483" velocity="2.0"/>
    <dynamics damping="0.1"/>
  </joint>
  <gazebo reference="rh_LFJ5">
    <provideFeedback>1</provideFeedback>
    <implicitSpringDamper>1</implicitSpringDamper>
  </gazebo>
  <transmission name="rh_lfmetacarpal_transmission">
    <type>sr_mechanism_model/SimpleTransmission</type>
    <actuator name="rh_LFJ5">
      <mechanicalReduction>1</mechanicalReduction>
    </actuator>
    <joint name="rh_LFJ5">
      <hardwareInterface>EffortJointInterface</hardwareInterface>
      <hardwareInterface>PositionJointInterface</hardwareInterface>
    </joint>
  </transmission>
  <gazebo reference="rh_lfmetacarpal">
    <selfCollide>true</selfCollide>
  </gazebo>
  <link name="rh_lfknuckle">
    <inertial>
      <origin rpy="0 0 0" xyz="0 0 0"/>
      <mass value="0.008"/>
      <inertia ixx="0.00000026" ixy="0.0" ixz="0.0" iyy="0.00000026" iyz="0.0" izz="0.00000032"/>
    </inertial>
    <visual>
      <origin rpy="0 0 0" xyz="0 0 0.0005"/>
      <geometry name="rh_lfknuckle_visual">
        <mesh filename="../meshes/components/f_knuckle/f_knuckle_E3M5.dae" scale="0.001 0.001 0.001"/>
      </geometry>
      <material name="LightGrey"/>
    </visual>
    <collision>
      <origin rpy="0 1.5708 0" xyz="0 0 0"/>
      <geometry name="rh_lfknuckle_collision_geom">
        <cylinder length="0.014" radius="0.007"/>
      </geometry>
    </collision>
  </link>
  <joint name="rh_LFJ4" type="revolute">
    <parent link="rh_lfmetacarpal"/>
    <child link="rh_lfknuckle"/>
    <!--<origin xyz="0.033 0 0.095" rpy="0 0 0" />-->
    <origin rpy="0 0.9599 0" xyz="0.05389084 0 0.03773727"/>
    <axis xyz="0 1 0"/>
    <limit effort="2" lower="-0.3490658503988659" upper="0.3490658503988659" velocity="2.0"/>
    <dynamics damping="0.1"/>
  </joint>
  <gazebo reference="rh_LFJ4">
    <provideFeedback>1</provideFeedback>
    <implicitSpringDamper>1</implicitSpringDamper>
  </gazebo>
  <transmission name="rh_lfknuckle_transmission">
    <type>sr_mechanism_model/SimpleTransmission</type>
    <actuator name="rh_LFJ4">
      <mechanicalReduction>1</mechanicalReduction>
    </actuator>
    <joint name="rh_LFJ4">
      <hardwareInterface>EffortJointInterface</hardwareInterface>
      <hardwareInterface>PositionJointInterface</hardwareInterface>
    </joint>
  </transmission>
  <gazebo reference="rh_lfknuckle">
    <!-- knuckle is not highly exposed, so bumper is not useful -->
    <material>Gazebo/Grey</material>
  </gazebo>
  <link name="rh_lfproximal">
    <inertial>
      <mass value="0.030"/>
      <origin xyz="0 0 0.0225"/>
      <inertia ixx="0.0000098" ixy="0.0" ixz="0.0" iyy="0.00001" iyz="0.0" izz="0.0000018"/>
    </inertial>
    <visual>
      <origin rpy="0 0 0" xyz="0 0 0"/>
      <geometry name="rh_lfproximal_visual">
        <mesh filename="../meshes/components/f_proximal/f_proximal_E3M5.dae" scale="0.001 0.001 0.001"/>
      </geometry>
      <material name="Grey"/>
    </visual>
    <collision>
      <origin rpy="0 0 0" xyz="0 0 0.025"/>
      <geometry name="rh_lfproximal_collision_geom">
        <cylinder length="0.040" radius="0.007"/>
      </geometry>
    </collision>
  </link>
  <joint name="rh_LFJ3" type="revolute">
    <parent link="rh_lfknuckle"/>
    <child link="rh_lfproximal"/>
    <origin rpy="0 0 0" xyz="0 0 0"/>
    <axis xyz="1 0 0"/>
    <limit effort="2" lower="-0.2617993877991494" upper="1.5707963267948966" velocity="2.0"/>
    <dynamics damping="0.1"/>
  </joint>
  <gazebo reference="rh_LFJ3">
    <provideFeedback>1</provideFeedback>
    <implicitSpringDamper>1</implicitSpringDamper>
  </gazebo>
  <transmission name="rh_lfproximal_transmission">
    <type>sr_mechanism_model/SimpleTransmission</type>
    <actuator name="rh_LFJ3">
      <mechanicalReduction>1</mechanicalReduction>
    </actuator>
    <joint name="rh_LFJ3">
      <hardwareInterface>EffortJointInterface</hardwareInterface>
      <hardwareInterface>PositionJointInterface</hardwareInterface>
    </joint>
  </transmission>
  <gazebo reference="rh_lfproximal">
    <selfCollide>true</selfCollide>
  </gazebo>
  <link name="rh_lfmiddle">
    <inertial>
      <origin rpy="0 0 0" xyz="0 0 0.0125"/>
      <mass value="0.017"/>
      <inertia ixx="0.0000026" ixy="0.0" ixz="0.0" iyy="0.0000027" iyz="0.0" izz="0.00000087"/>
    </inertial>
    <visual>
      <origin rpy="0 0 0" xyz="0 0 0"/>
      <geometry name="rh_lfmiddle_visual">
        <mesh filename="../meshes/components/f_middle/f_middle_E3M5.dae" scale="0.001 0.001 0.001"/>
      </geometry>
      <material name="Grey"/>
    </visual>
    <collision>
      <origin rpy="0 0 0" xyz="0 0 0.0125"/>
      <geometry name="rh_lfmiddle_collision_geom">
        <cylinder length="0.025" radius="0.007"/>
      </geometry>
    </collision>
    <collision>
      <origin rpy="0 0 0" xyz="0 0 0.0"/>
      <geometry>
        <sphere radius="0.007"/>
      </geometry>
    </collision>
    <collision>
      <origin rpy="0 0 0" xyz="0 0 0.025"/>
      <geometry>
        <sphere radius="0.007"/>
      </geometry>
    </collision>
  </link>
  <joint name="rh_LFJ2" type="revolute">
    <parent link="rh_lfproximal"/>
    <child link="rh_lfmiddle"/>
    <origin rpy="0 0 0" xyz="0 0 0.045"/>
    <axis xyz="1 0 0"/>
    <limit effort="2" lower="0" upper="1.5707963267948966" velocity="2.0"/>
    <dynamics damping="0.1"/>
  </joint>
  <gazebo reference="rh_LFJ2">
    <provideFeedback>1</provideFeedback>
    <implicitSpringDamper>1</implicitSpringDamper>
  </gazebo>
  <transmission name="rh_lfmiddle_transmission">
    <type>sr_mechanism_model/J0Transmission</type>
    <actuator name="rh_LFJ0">
      <mechanicalReduction>1</mechanicalReduction>
    </actuator>
    <joint name="rh_LFJ1">
      <hardwareInterface>EffortJointInterface</hardwareInterface>
      <hardwareInterface>PositionJointInterface</hardwareInterface>
    </joint>
  </transmission>
  <gazebo reference="rh_lfmiddle">
    <selfCollide>true</selfCollide>
  </gazebo>
  <link name="rh_lfdistal">
    <inertial>
      <mass value="0.012"/>
      <origin xyz="0 0 0.012"/>
      <inertia ixx="0.00000094" ixy="0.0" ixz="0.0" iyy="0.0000011" iyz="0.0" izz="0.00000053"/>
    </inertial>
    <visual>
      <origin rpy="0 0 0" xyz="0 0 0"/>
      <geometry name="rh_lfdistal_visual">
        <mesh filename="../meshes/components/f_distal/pst/f_distal_pst.dae" scale="0.001 0.001 0.001"/>
      </geometry>
    </visual>
    <collision>
      <origin rpy="0 0 0" xyz="0 0 0"/>
      <geometry name="rh_lfdistal_collision_geom">
        <mesh filename="../meshes/components/f_distal/pst/f_distal_pst.dae" scale="0.001 0.001 0.001"/>
      </geometry>
    </collision>
  </link>
  <joint name="rh_LFJ1" type="revolute">
    <parent link="rh_lfmiddle"/>
    <child link="rh_lfdistal"/>
    <origin rpy="0 0 0" xyz="0 0 0.025"/>
    <axis xyz="1 0 0"/>
    <!-- standard distal joint -->
    <limit effort="2" lower="0" upper="1.5707963267948966" velocity="2.0"/>
    <dynamics damping="0.1"/>
  </joint>
  <gazebo reference="rh_LFJ1">
    <provideFeedback>1</provideFeedback>
    <implicitSpringDamper>1</implicitSpringDamper>
  </gazebo>
  <link name="rh_lftip">
    <inertial>
      <mass value="0.001"/>
      <inertia ixx="0.0" ixy="0.0" ixz="0.0" iyy="0.0" iyz="0.0" izz="0.0"/>
    </inertial>
  </link>
  <joint name="rh_LFtip" type="fixed">
    <parent link="rh_lfdistal"/>
    <child link="rh_lftip"/>
    <origin rpy="0 0 0" xyz="0 0 0.026"/>
  </joint>
  <gazebo reference="rh_lfdistal">
    <sensor name="rh_lfdistal_contact" type="contact">
      <always_on>1</always_on>
      <update_rate>1000.0</update_rate>
      <contact>
        <collision>rh_lfdistal_collision</collision>
        <topic>rh_lfdistal_collision</topic>
      </contact>
      <plugin filename="libgazebo_ros_bumper.so" name="rh_lfdistal_gazebo_ros_bumper_controller">
        <alwaysOn>true</alwaysOn>
        <frameName>rh_lfdistal</frameName>
        <updateRate>100.0</updateRate>
        <bumperTopicName>contacts/rh_lf/distal</bumperTopicName>
      </plugin>
    </sensor>
    <mu1 value="500.0"/>
    <mu2 value="500.0"/>
    <kp value="10000000.0"/>
    <kd value="1.0"/>
    <selfCollide>true</selfCollide>
  </gazebo>
  <link name="rh_thbase">
    <inertial>
      <mass value="0.010"/>
      <origin rpy="0 0 0" xyz="0 0 0"/>
      <inertia ixx="0.00000016" ixy="0.0" ixz="0.0" iyy="0.00000016" iyz="0.0" izz="0.00000016"/>
    </inertial>
    <visual>
      <origin rpy="0 0 0" xyz="0 0 0"/>
      <geometry name="rh_thbase_visual">
        <box size="0.001 0.001 0.001"/>
      </geometry>
      <material name="shadow_thbase_material">
        <color rgba="0.5 0.5 0.5 1.0"/>
      </material>
    </visual>
    <collision>
      <origin rpy="0 0 0" xyz="0 0 0"/>
      <geometry name="rh_thbase_collision_geom">
        <sphere radius="0.011"/>
      </geometry>
    </collision>
  </link>
  <joint name="rh_THJ5" type="revolute">
    <parent link="rh_palm"/>
    <child link="rh_thbase"/>
    <origin rpy="-0.7853981633974483 0 -1.5707963267948966" xyz="0.034 -0.00858 0.029"/>
    <axis xyz="0 0 -1"/>
    <limit effort="5.0" lower="-1.0471975511965976" upper="1.0471975511965976" velocity="4.0"/>
    <dynamics damping="0.2"/>
  </joint>
  <gazebo reference="rh_THJ5">
    <provideFeedback>1</provideFeedback>
    <implicitSpringDamper>1</implicitSpringDamper>
  </gazebo>
  <transmission name="rh_thbase_transmission">
    <type>sr_mechanism_model/SimpleTransmission</type>
    <actuator name="rh_THJ5">
      <mechanicalReduction>1</mechanicalReduction>
    </actuator>
    <joint name="rh_THJ5">
      <hardwareInterface>EffortJointInterface</hardwareInterface>
      <hardwareInterface>PositionJointInterface</hardwareInterface>
    </joint>
  </transmission>
  <gazebo reference="rh_thbase">
    <!-- base is inside the proximal and not exposed, so bumper is not needed -->
    <selfCollide>false</selfCollide>
  </gazebo>
  <link name="rh_thproximal">
    <inertial>
      <mass value="0.040"/>
      <origin rpy="0 0 0" xyz="0 0 0.019"/>
      <inertia ixx="0.0000136" ixy="0.0" ixz="0.0" iyy="0.0000136" iyz="0.0" izz="0.00000313"/>
    </inertial>
    <visual>
      <origin rpy="0 0 0" xyz="0 0 0"/>
      <geometry name="rh_thproximal_visual">
        <mesh filename="../meshes/components/th_proximal/th_proximal_E3M5.dae" scale="0.001 0.001 0.001"/>
      </geometry>
      <material name="shadow_thproximal_material">
        <color rgba="0.2 0.2 0.2 1.0"/>
      </material>
    </visual>
    <collision>
      <origin rpy="0 0 0" xyz="0 0 0.020"/>
      <geometry name="rh_thproximal_collision_geom">
        <cylinder length="0.018" radius="0.012"/>
      </geometry>
    </collision>
  </link>
  <joint name="rh_THJ4" type="revolute">
    <parent link="rh_thbase"/>
    <child link="rh_thproximal"/>
    <origin rpy="0 0 0" xyz="0 0 0"/>
    <axis xyz="0 1 0"/>
    <limit effort="3" lower="0.0" upper="1.2217304763960306" velocity="4.0"/>
    <dynamics damping="0.2"/>
  </joint>
  <gazebo reference="rh_THJ4">
    <provideFeedback>1</provideFeedback>
    <implicitSpringDamper>1</implicitSpringDamper>
  </gazebo>
  <transmission name="rh_thproximal_transmission">
    <type>sr_mechanism_model/SimpleTransmission</type>
    <actuator name="rh_THJ4">
      <mechanicalReduction>1</mechanicalReduction>
    </actuator>
    <joint name="rh_THJ4">
      <hardwareInterface>EffortJointInterface</hardwareInterface>
      <hardwareInterface>PositionJointInterface</hardwareInterface>
    </joint>
  </transmission>
  <gazebo reference="rh_thproximal">
    <selfCollide>false</selfCollide>
  </gazebo>
  <link name="rh_thhub">
    <inertial>
      <mass value="0.005"/>
      <origin rpy="0 0 0" xyz="0 0 0"/>
      <inertia ixx="0.000001" ixy="0.0" ixz="0.0" iyy="0.000001" iyz="0.0" izz="0.0000003"/>
    </inertial>
    <visual>
      <origin rpy="0 0 0" xyz="0 0 0"/>
      <geometry name="rh_thhub_visual">
        <box size="0.001 0.001 0.001"/>
      </geometry>
      <material name="shadow_thhub_material">
        <color rgba="0.7 0.7 0.7 1.0"/>
      </material>
    </visual>
    <collision>
      <origin rpy="0 0 0" xyz="0 0 0"/>
      <geometry name="rh_thhub_collision_geom">
        <sphere radius="0.010"/>
      </geometry>
    </collision>
  </link>
  <joint name="rh_THJ3" type="revolute">
    <parent link="rh_thproximal"/>
    <child link="rh_thhub"/>
    <origin rpy="0 0 0" xyz="0 0 0.038"/>
    <axis xyz="0 1 0"/>
    <limit effort="2.0" lower="-0.20943951023931953" upper="0.20943951023931953" velocity="4.0"/>
    <dynamics damping="0.2"/>
  </joint>
  <gazebo reference="rh_THJ3">
    <provideFeedback>1</provideFeedback>
    <implicitSpringDamper>1</implicitSpringDamper>
  </gazebo>
  <transmission name="rh_thhub_transmission">
    <type>sr_mechanism_model/SimpleTransmission</type>
    <actuator name="rh_THJ3">
      <mechanicalReduction>1</mechanicalReduction>
    </actuator>
    <joint name="rh_THJ3">
      <hardwareInterface>EffortJointInterface</hardwareInterface>
      <hardwareInterface>PositionJointInterface</hardwareInterface>
    </joint>
  </transmission>
  <gazebo reference="rh_thhub">
    <!-- hub is inside the proximal and not exposed, so bumper is not needed -->
    <selfCollide>false</selfCollide>
  </gazebo>
  <link name="rh_thmiddle">
    <inertial>
      <mass value="0.020"/>
      <origin rpy="0 0 0" xyz="0 0 0.016"/>
      <inertia ixx="0.0000051" ixy="0.0" ixz="0.0" iyy="0.0000051" iyz="0.0" izz="0.00000121"/>
    </inertial>
    <visual>
      <origin rpy="0 0 0" xyz="0 0 0"/>
      <geometry name="rh_thmiddle_visual">
        <mesh filename="../meshes/components/th_middle/th_middle_E3M5.dae" scale="0.001 0.001 0.001"/>
      </geometry>
      <material name="shadow_thmiddle_material">
        <color rgba="0.2 0.2 0.2 1.0"/>
      </material>
    </visual>
    <collision>
      <origin rpy="0 0 0" xyz="0 0 0.012"/>
      <geometry name="rh_thmiddle_collision_geom">
        <cylinder length="0.018" radius="0.011"/>
      </geometry>
    </collision>
    <collision>
      <origin rpy="0 0 0" xyz="0 0 0.019"/>
      <geometry>
        <sphere radius="0.011"/>
      </geometry>
    </collision>
  </link>
  <joint name="rh_THJ2" type="revolute">
    <parent link="rh_thhub"/>
    <child link="rh_thmiddle"/>
    <origin rpy="0 0 0" xyz="0 0 0"/>
    <axis xyz="1 0 0"/>
    <limit effort="2.0" lower="-0.6981317007977318" upper="0.6981317007977318" velocity="2.0"/>
    <dynamics damping="0.1"/>
  </joint>
  <gazebo reference="rh_THJ2">
    <provideFeedback>1</provideFeedback>
    <implicitSpringDamper>1</implicitSpringDamper>
  </gazebo>
  <transmission name="rh_thmiddle_transmission">
    <type>sr_mechanism_model/SimpleTransmission</type>
    <actuator name="rh_THJ2">
      <mechanicalReduction>1</mechanicalReduction>
    </actuator>
    <joint name="rh_THJ2">
      <hardwareInterface>EffortJointInterface</hardwareInterface>
      <hardwareInterface>PositionJointInterface</hardwareInterface>
    </joint>
  </transmission>
  <gazebo reference="rh_thmiddle">
  </gazebo>
  <!-- common -->
  <link name="rh_thdistal">
    <inertial>
      <mass value="0.016"/>
      <origin rpy="0 0 0" xyz="0 0 0.01375"/>
      <inertia ixx="0.0000021" ixy="0.0" ixz="0.0" iyy="0.0000022" iyz="0.0" izz="0.000001"/>
    </inertial>
    <visual>
      <origin rpy="0 0 0" xyz="0 0 0"/>
      <geometry name="rh_thdistal_visual">
        <mesh filename="../meshes/components/th_distal/pst/th_distal_pst.dae" scale="0.001 0.001 0.001"/>
      </geometry>
      <material name="shadow_thmiddle_material">
        <color rgba="0.2 0.2 0.2 1.0"/>
      </material>
    </visual>
    <collision>
      <origin rpy="0 0 0" xyz="0 0 0"/>
      <geometry name="rh_thmiddle_collision_geom">
        <mesh filename="../meshes/components/th_distal/pst/th_distal_pst.dae" scale="0.001 0.001 0.001"/>
      </geometry>
    </collision>
  </link>
  <joint name="rh_THJ1" type="revolute">
    <parent link="rh_thmiddle"/>
    <child link="rh_thdistal"/>
    <origin rpy="0 0 0" xyz="0 0 0.032"/>
    <axis xyz="1 0 0"/>
    <limit effort="1.0" lower="-0.2617993877991494" upper="1.5707963267948966" velocity="4.0"/>
    <dynamics damping="0.2"/>
  </joint>
  <gazebo reference="rh_THJ1">
    <provideFeedback>1</provideFeedback>
    <implicitSpringDamper>1</implicitSpringDamper>
  </gazebo>
  <link name="rh_thtip">
    <inertial>
      <mass value="0.001"/>
      <inertia ixx="0.0" ixy="0.0" ixz="0.0" iyy="0.0" iyz="0.0" izz="0.0"/>
    </inertial>
  </link>
  <joint name="rh_thtip" type="fixed">
    <parent link="rh_thdistal"/>
    <child link="rh_thtip"/>
    <origin rpy="0 0 0" xyz="0 0 0.0275"/>
  </joint>
  <gazebo reference="rh_thdistal">
    <sensor name="rh_thdistal_contact" type="contact">
      <always_on>1</always_on>
      <update_rate>1000.0</update_rate>
      <contact>
        <collision>rh_thdistal_collision</collision>
        <topic>rh_thdistal_collision</topic>
      </contact>
      <plugin filename="libgazebo_ros_bumper.so" name="rh_thdistal_gazebo_ros_bumper_controller">
        <alwaysOn>true</alwaysOn>
        <frameName>rh_thdistal</frameName>
        <updateRate>100.0</updateRate>
        <bumperTopicName>contacts/rh_th/distal</bumperTopicName>
      </plugin>
    </sensor>
    <mu1 value="500.0"/>
    <mu2 value="500.0"/>
    <kp value="10000000.0"/>
    <kd value="1.0"/>
    <selfCollide>true</selfCollide>
  </gazebo>
  <transmission name="rh_thdistal_transmission">
    <type>sr_mechanism_model/SimpleTransmission</type>
    <actuator name="rh_THJ1">
      <mechanicalReduction>1</mechanicalReduction>
    </actuator>
    <joint name="rh_THJ1">
      <hardwareInterface>EffortJointInterface</hardwareInterface>
      <hardwareInterface>PositionJointInterface</hardwareInterface>
    </joint>
  </transmission>
  <!-- make connection between ur5 arm and shadow hand -->
  <joint name="ra_arm_to_hand" type="fixed">
    <parent link="ur5_tool0"/>
    <child link="rh_forearm"/>
    <origin rpy="0.0 0.0 0.0" xyz="0.0 0.0 0.0"/>
  </joint>
</robot>
